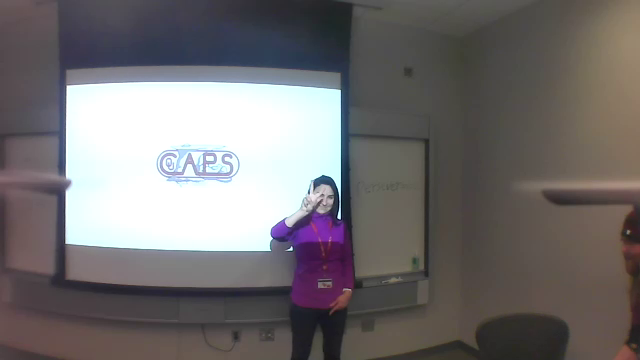peace: (301, 175, 329, 214)
